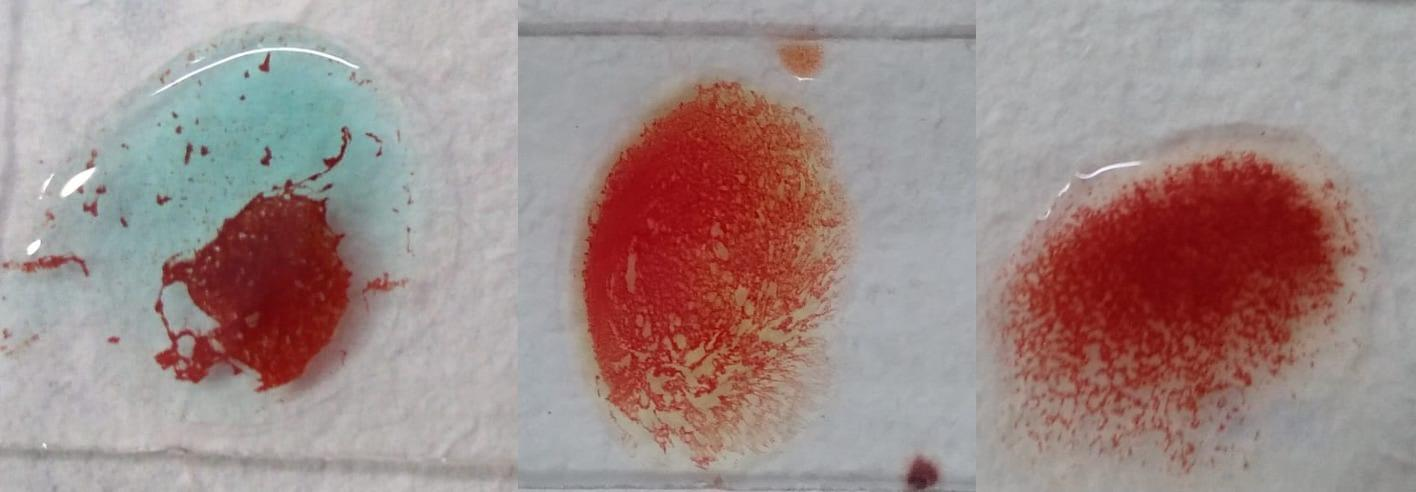A: (51, 24, 419, 415)
B: (584, 80, 845, 473)
D: (991, 140, 1376, 468)
